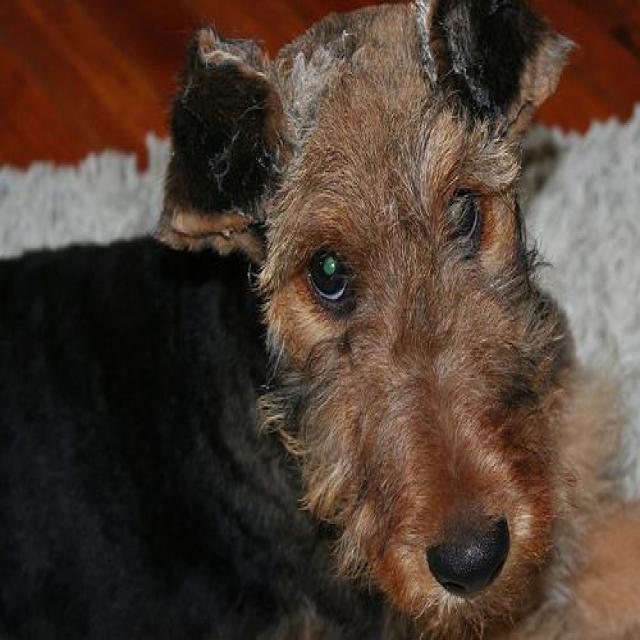airedale: (0, 0, 639, 638)
